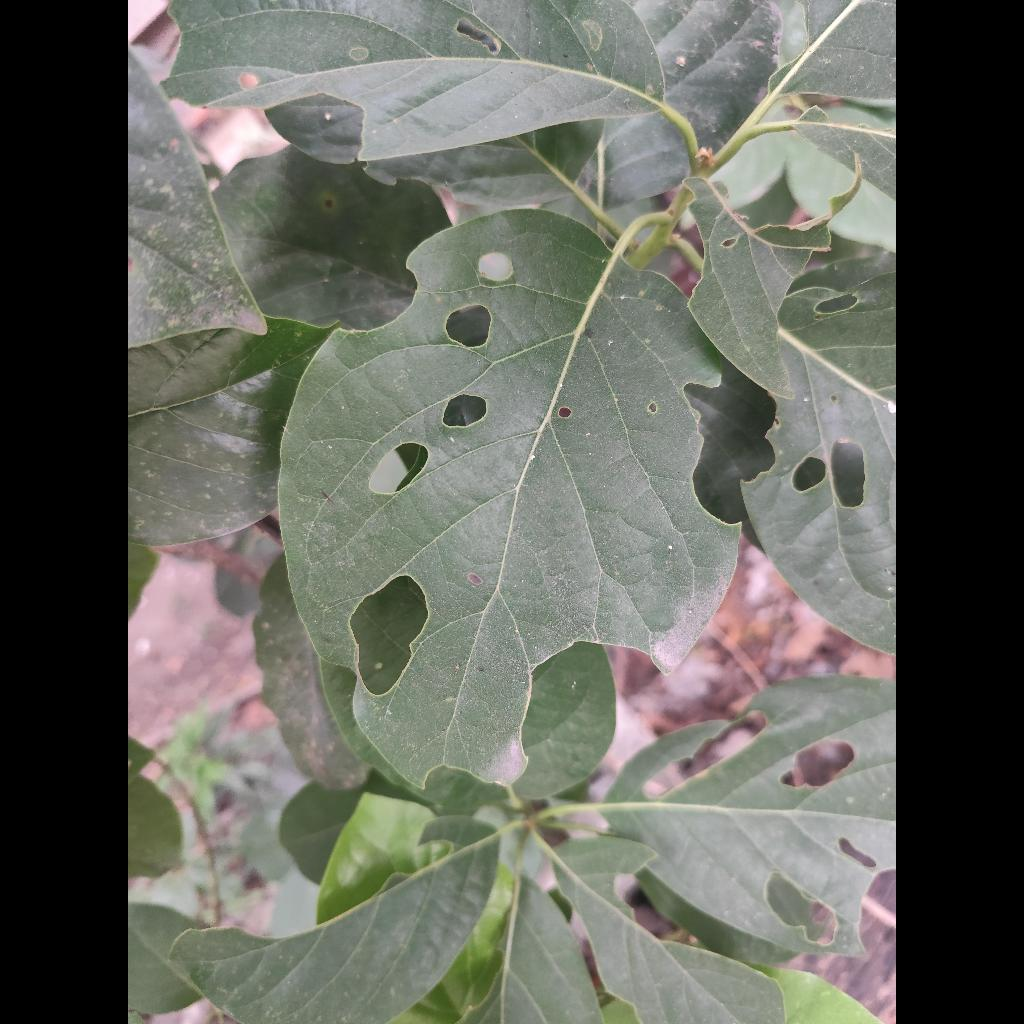Pest Infested: (280, 211, 738, 785)
